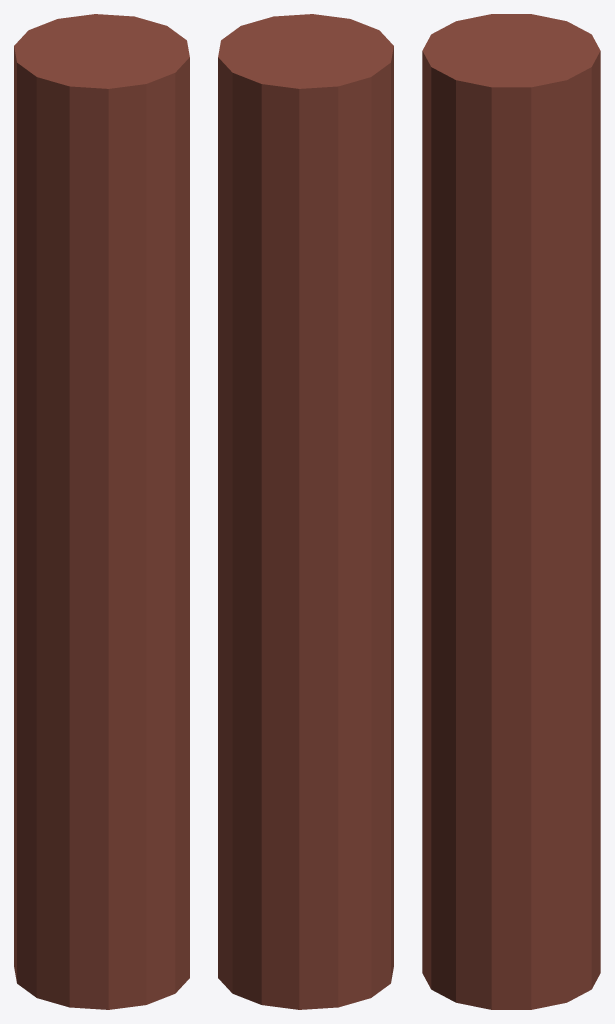
Rendered from Pole.fbx.
The picture shows the model from 3 angles, left to right: view 1: azimuth 30°, elevation 25°; view 2: azimuth 150°, elevation 25°; view 3: azimuth 270°, elevation 25°; orthographic projection.
Visible parts, largest first — view 1: Cylinder; view 2: Cylinder; view 3: Cylinder.
Boxes of the visible parts, bbox=[...] form: Cylinder: bbox=[14, 14, 189, 1009]; Cylinder: bbox=[218, 14, 393, 1009]; Cylinder: bbox=[422, 14, 600, 1009].
Size of the model in its own units: 136 by 800 by 140.
